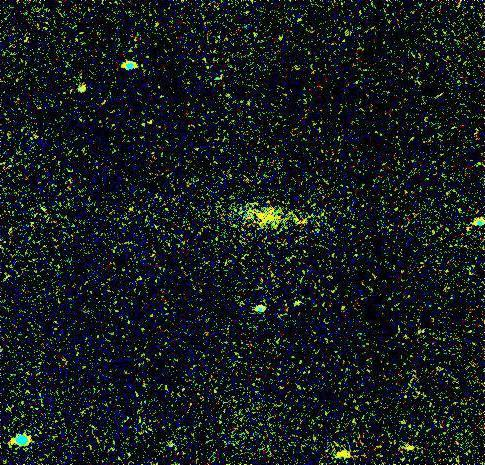star: (328, 440, 358, 465)
